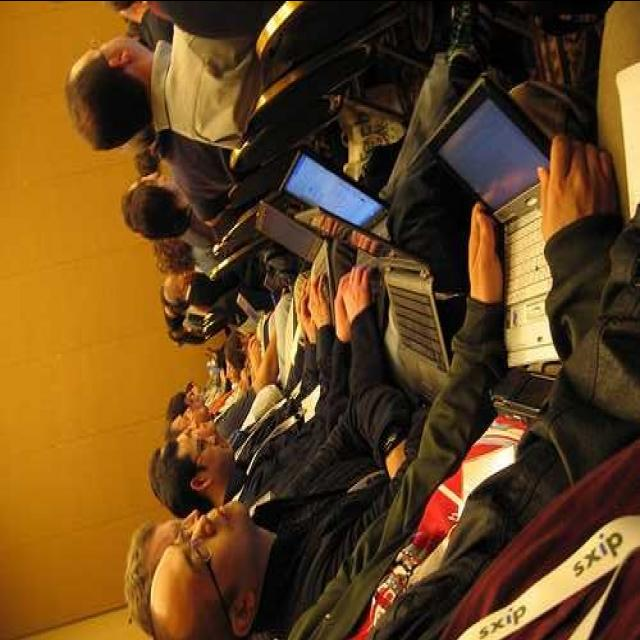laptop: (300, 150, 441, 322), (452, 102, 540, 266), (257, 202, 332, 292)
